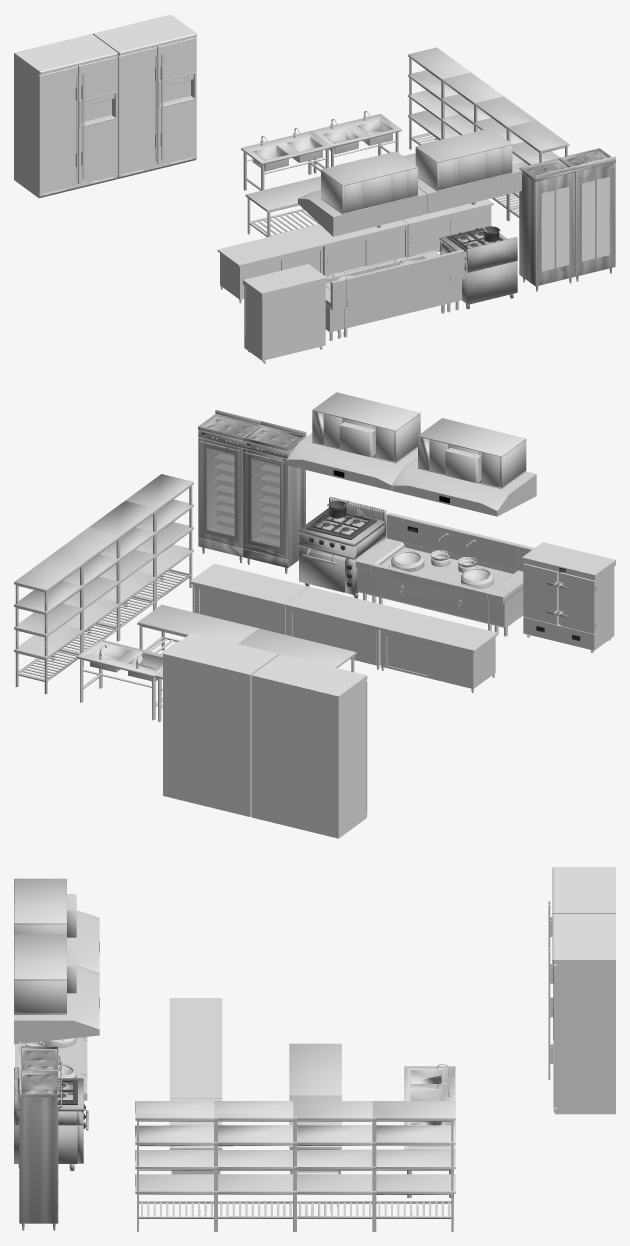
3 views of the same model, one above another, from view 1: azimuth 30°, elevation 25°; view 2: azimuth 150°, elevation 25°; view 3: azimuth 270°, elevation 25° (orthographic). The views are drawn at different scales.
Size of the model in its own units: 5.14 by 2.21 by 6.2.
Materials: 51 (9 with a texture image).
